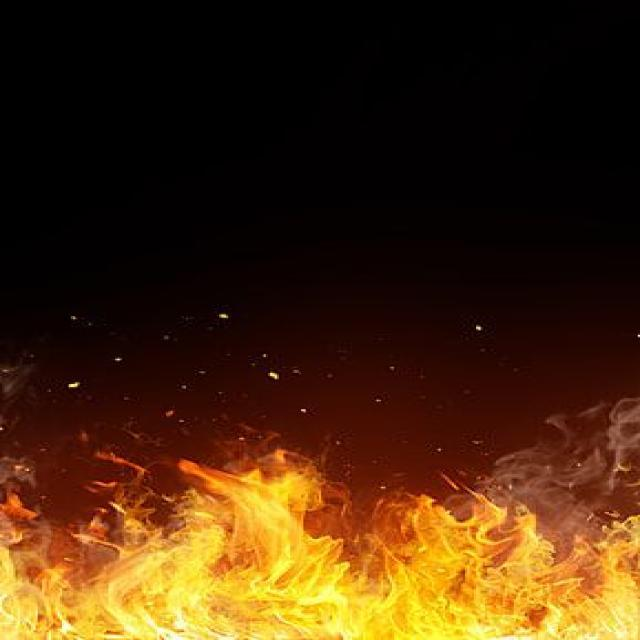Fire: (10, 466, 640, 640)
